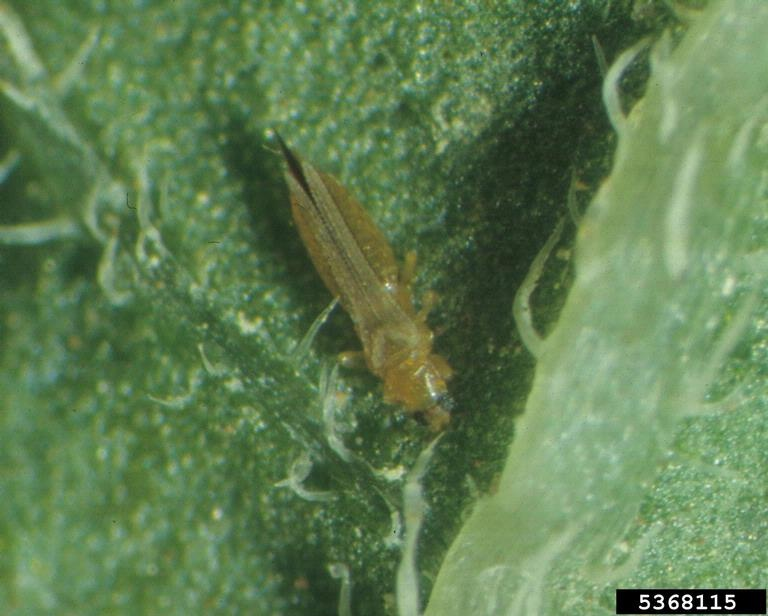Thrips: (240, 119, 489, 451)
